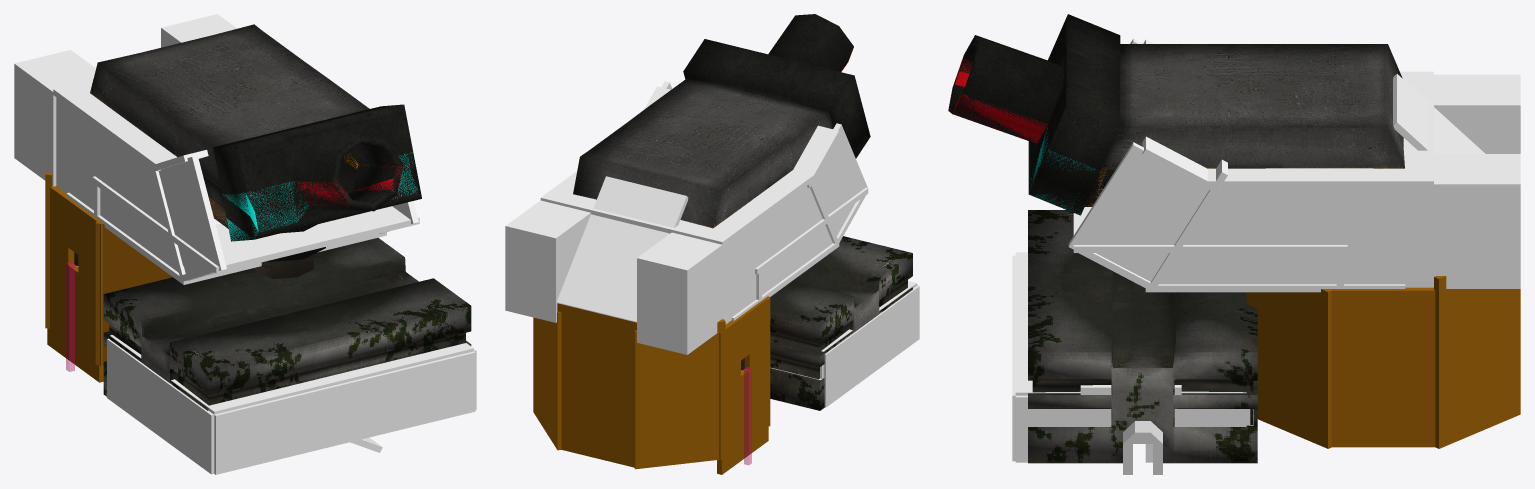
Rendered from microscopebuilding.glb.
3 renders of one model, left to right at view 1: azimuth 30°, elevation 25°; view 2: azimuth 150°, elevation 25°; view 3: azimuth 270°, elevation 25°, orthographic. The views are drawn at different scales.
Parts seen in each view (by area): view 1: building2, building1, MeshInstance3D10, MeshInstance3D45, MeshInstance3D, MeshInstance3D44, MeshInstance3D37, MeshInstance3D50, MeshInstance3D26, MeshInstance3D24, MeshInstance3D31, MeshInstance3D47 (+9 smaller); view 2: building2, building1, MeshInstance3D19, MeshInstance3D28, MeshInstance3D41, MeshInstance3D44, MeshInstance3D43, MeshInstance3D45, MeshInstance3D, MeshInstance3D47, MeshInstance3D24, MeshInstance3D27 (+8 smaller); view 3: building2, building1, MeshInstance3D46, MeshInstance3D20, MeshInstance3D27, MeshInstance3D43, MeshInstance3D25, MeshInstance3D49, MeshInstance3D47, MeshInstance3D44, MeshInstance3D41, building2_high (+11 smaller).
Part boxes in pixels (x1,y1,x2,y2): building2: (74,24,421,279); building1: (103,237,471,410); MeshInstance3D10: (214,351,475,474); MeshInstance3D45: (56,97,183,272); MeshInstance3D: (107,338,214,474); MeshInstance3D44: (14,50,95,186); MeshInstance3D37: (92,176,419,273); MeshInstance3D50: (159,155,226,280); MeshInstance3D26: (95,220,172,365); MeshInstance3D24: (47,264,103,382); MeshInstance3D31: (110,335,473,414); MeshInstance3D47: (53,79,176,171); building2: (573,14,870,370); building1: (770,236,912,410); MeshInstance3D19: (557,303,636,467); MeshInstance3D28: (634,319,725,469); MeshInstance3D41: (556,176,688,322); MeshInstance3D44: (637,232,722,354); MeshInstance3D43: (505,200,590,322); MeshInstance3D45: (713,186,832,324); MeshInstance3D: (823,286,919,407); MeshInstance3D47: (540,170,815,247); MeshInstance3D24: (717,358,768,474); MeshInstance3D27: (533,311,561,450); building2: (948,14,1404,215); building1: (1028,210,1257,463); MeshInstance3D46: (1145,183,1433,287); MeshInstance3D20: (1326,287,1435,447); MeshInstance3D27: (1434,276,1520,448); MeshInstance3D43: (1434,154,1520,288); MeshInstance3D25: (1246,289,1331,448); MeshInstance3D49: (1068,142,1204,279); MeshInstance3D47: (1203,71,1433,187); MeshInstance3D44: (1434,74,1520,153); MeshInstance3D41: (1393,74,1485,153); building2_high: (953,59,1404,215).
Bounding box in the file's own units: 50.85 × 57.98 × 79.38.
Materials: 57 (2 with a texture image).
